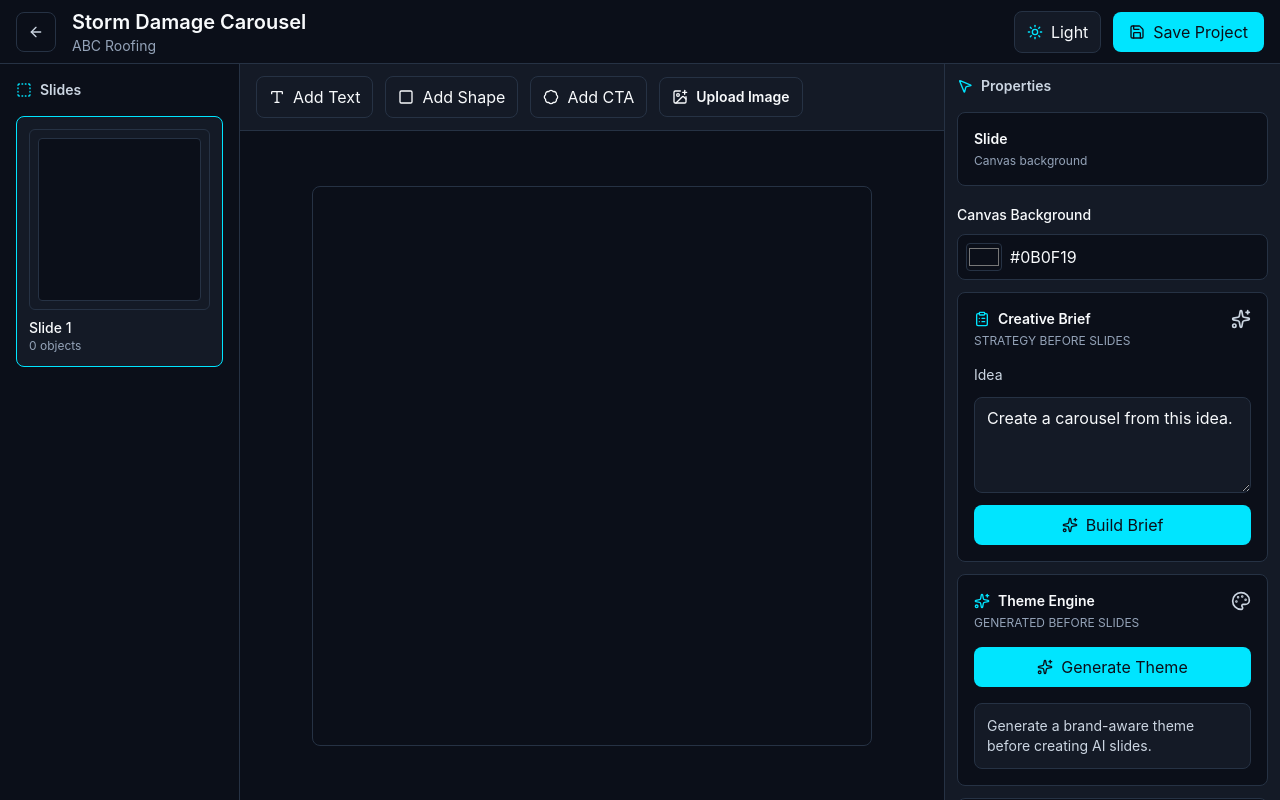
Test case: ProjectEditorShell › starts inline text editing by double-clicking the canvas text object
Click the button "Add Text" at (315, 97), box [256, 76, 374, 118]
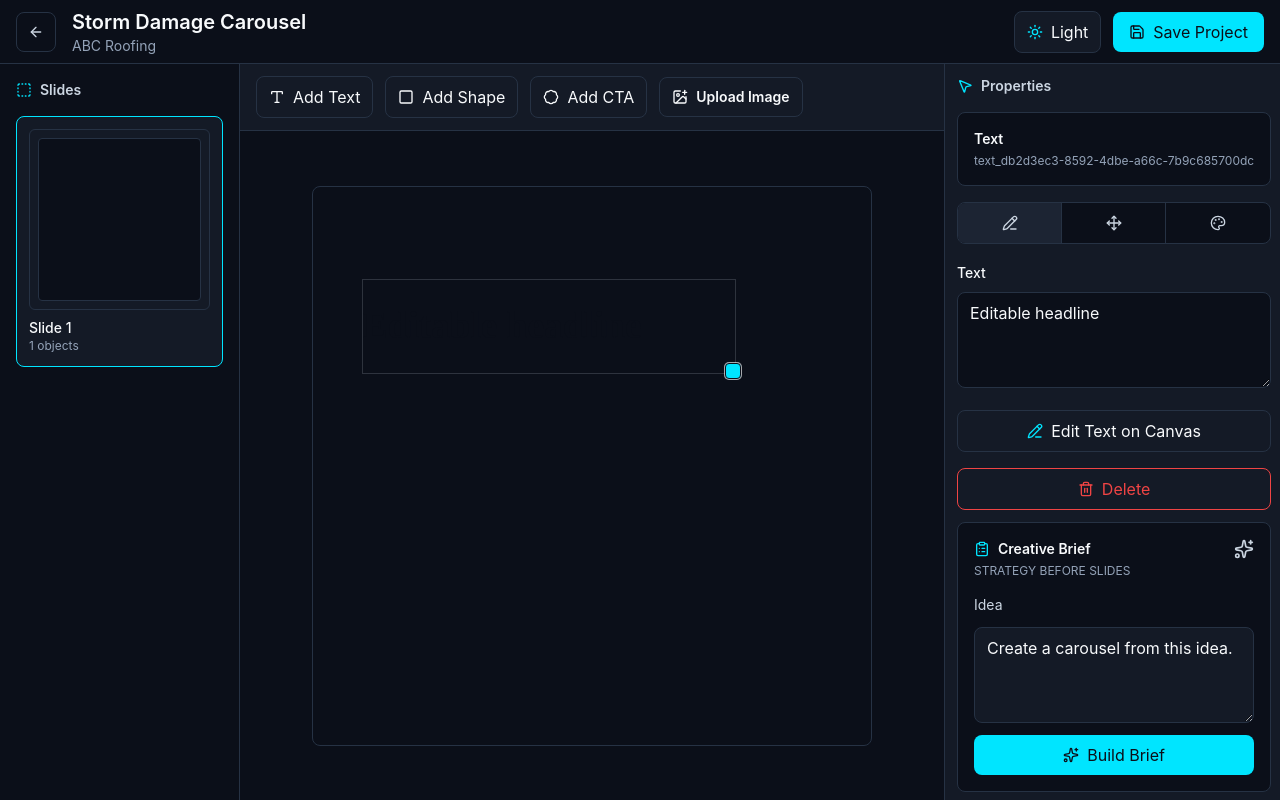
Double-click the button "Editable headline" at (549, 326), box [363, 280, 735, 372]
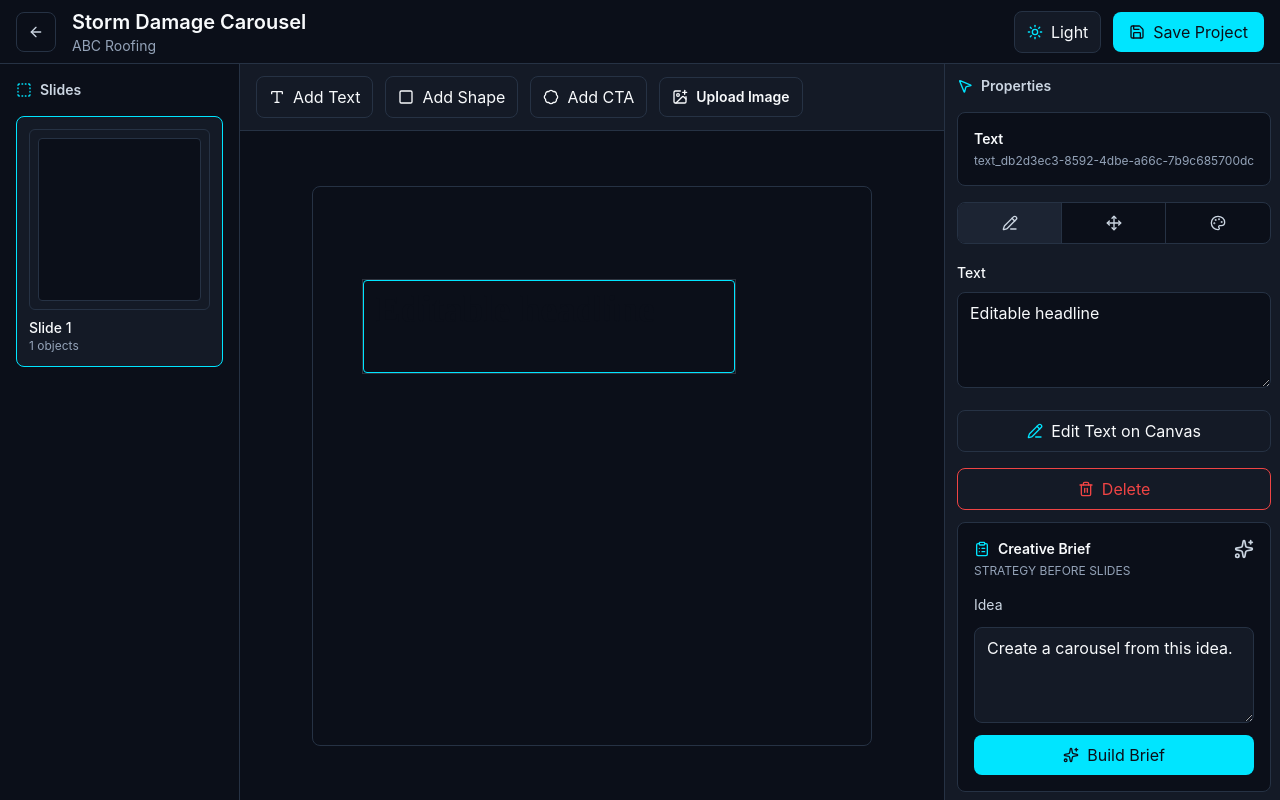
Expected: the text box named "Edit text on canvas" holds "Editable headline", [363, 280, 735, 372]
